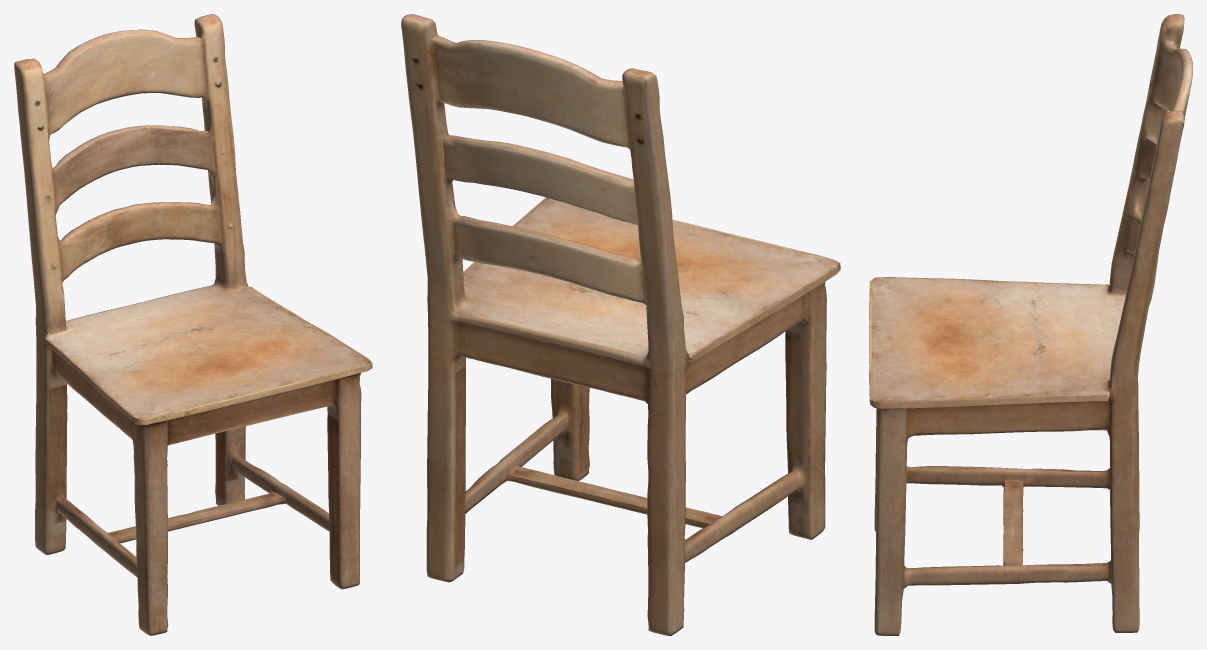
Rendered from chair.glb.
3 renders of one model, left to right at view 1: azimuth 30°, elevation 25°; view 2: azimuth 150°, elevation 25°; view 3: azimuth 270°, elevation 25°, orthographic. The views are drawn at different scales.
Visible parts, largest first — view 1: Mesh0; view 2: Mesh0; view 3: Mesh0.
Part boxes in pixels (box(x1,y1,x2,y2)): Mesh0: box(14, 14, 372, 635); Mesh0: box(401, 14, 840, 635); Mesh0: box(869, 14, 1192, 635).
Size of the model in its own units: 1.05 by 2 by 1.14.
1 material, 1 textured.
